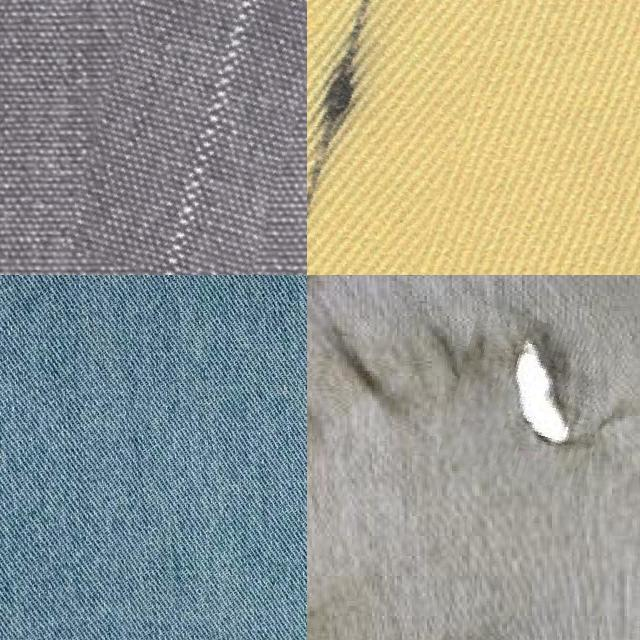other: (446, 312, 612, 488)
stains: (94, 0, 307, 275), (307, 0, 498, 275)
